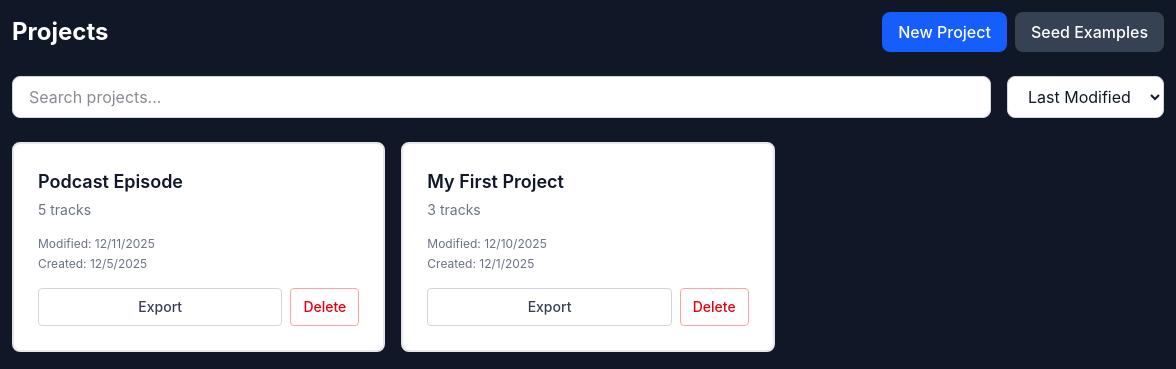
ProjectManager › Search and Filter › should filter projects by search query
Type "Podcast" into the field with placeholder "Search projects..." at (502,97), box [12, 76, 991, 118]
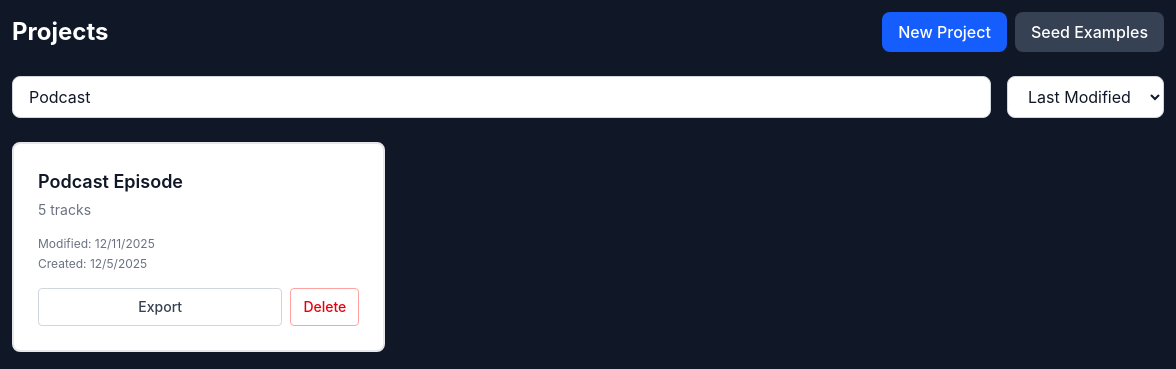
Expected: the heading "Podcast Episode" is shown, [38, 171, 183, 192]
Expected: the heading "My First Project" is gone
